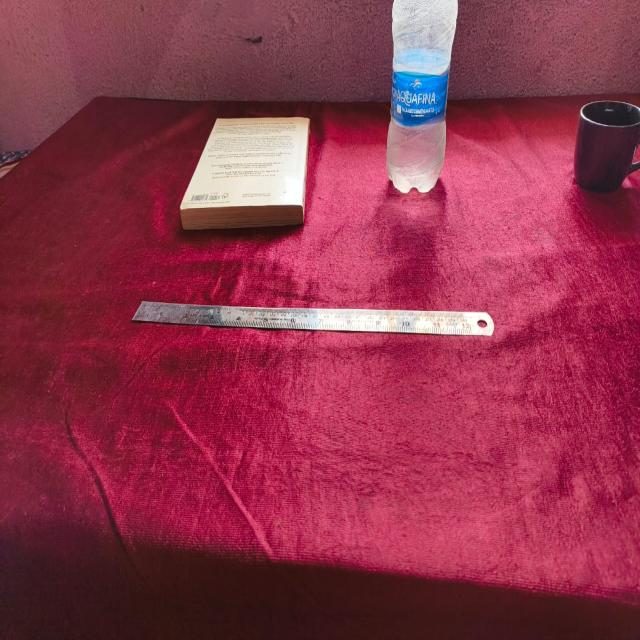Book: (180, 111, 312, 233)
Bottle: (389, 0, 454, 198)
Cup: (571, 97, 640, 192)
scale: (132, 288, 496, 336)
